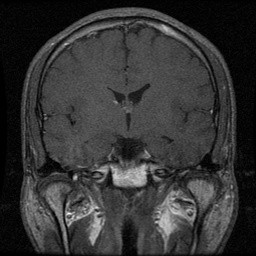pituitary: (96, 154, 163, 188)
